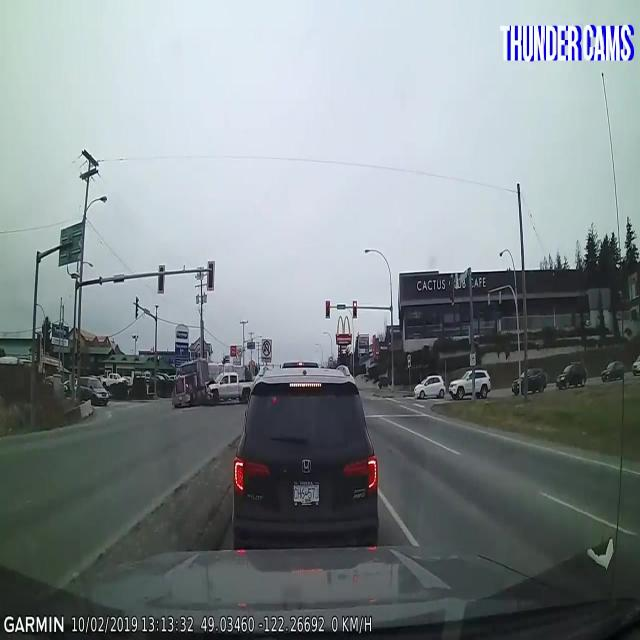accident: (169, 351, 249, 408)
